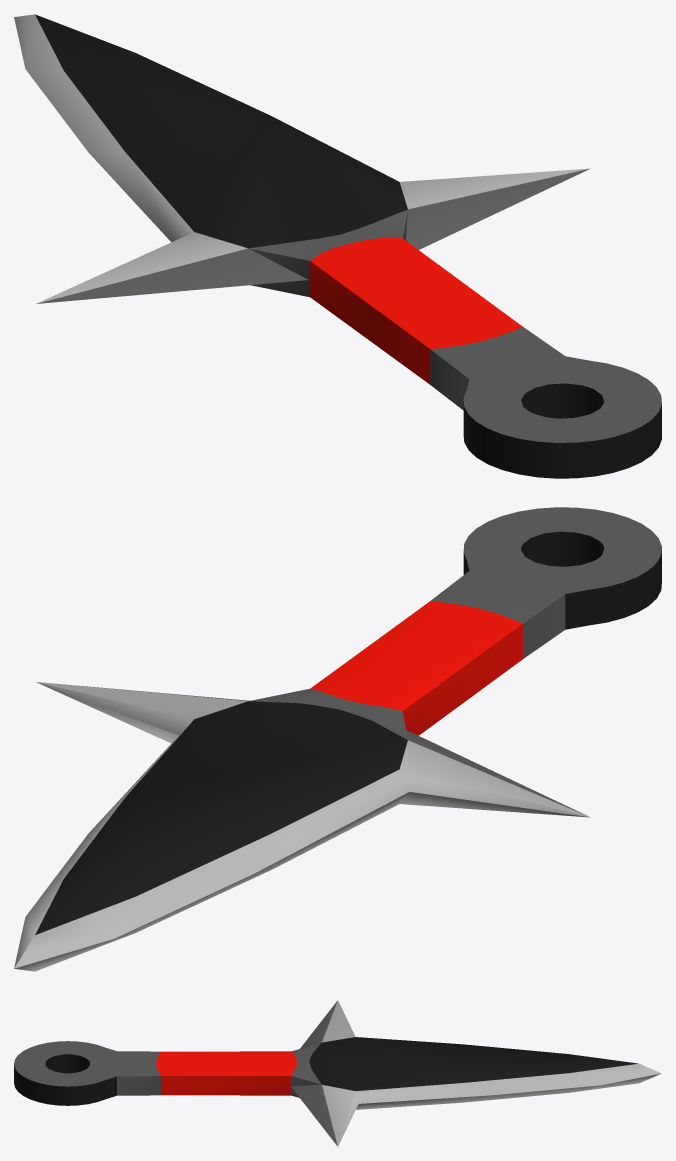
Rendered from kunai-food.fbx.
3 views of the same model, one above another, from view 1: azimuth 30°, elevation 25°; view 2: azimuth 150°, elevation 25°; view 3: azimuth 270°, elevation 25° (orthographic). The views are drawn at different scales.
Parts seen in each view (by area): view 1: kunai-food; view 2: kunai-food; view 3: kunai-food.
Part boxes in pixels (x1,y1,x2,y2): kunai-food: (14,14,661,478); kunai-food: (14,507,661,971); kunai-food: (14,1000,661,1146).
Bounding box in the file's own units: 0.0798 × 0.0057 × 0.1489.
